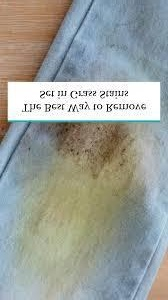earth: (20, 125, 140, 266)
